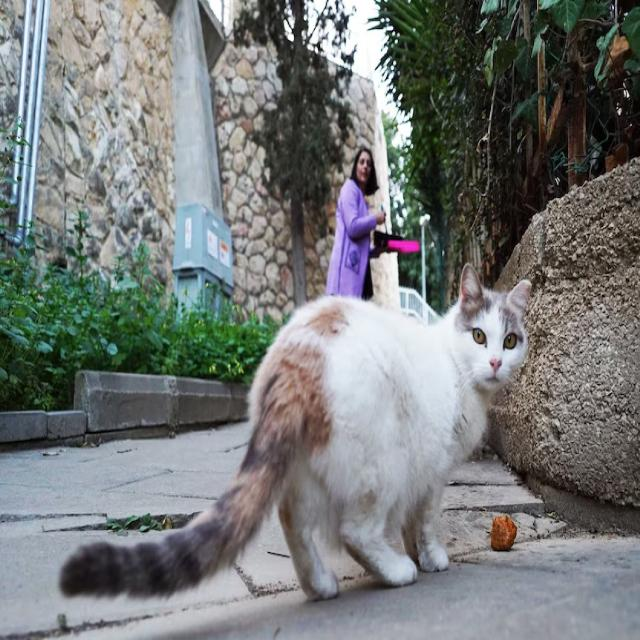cat: (60, 264, 531, 600)
